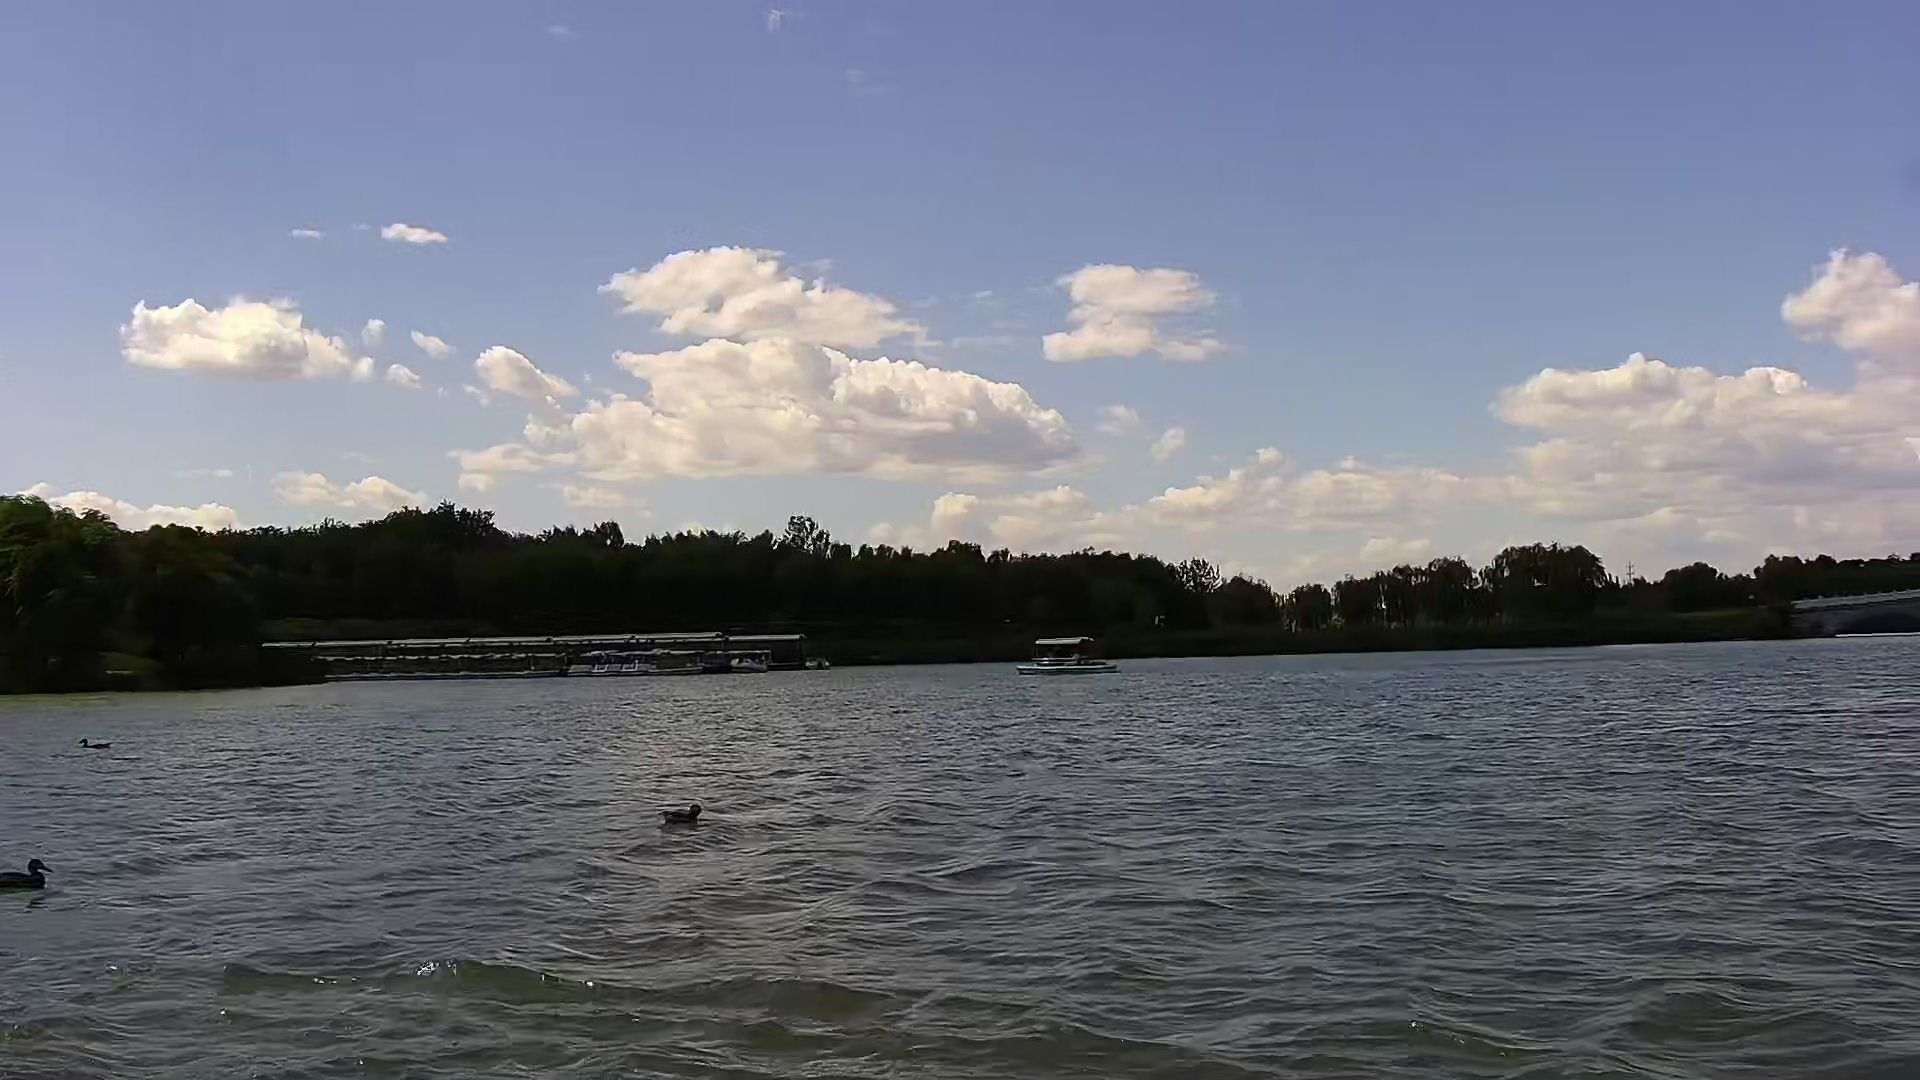animal: (1, 860, 47, 895), (655, 803, 707, 827), (71, 735, 119, 753)
boat: (1022, 630, 1124, 676)
bridge: (1787, 585, 1920, 644)
harbor: (258, 638, 814, 682)
